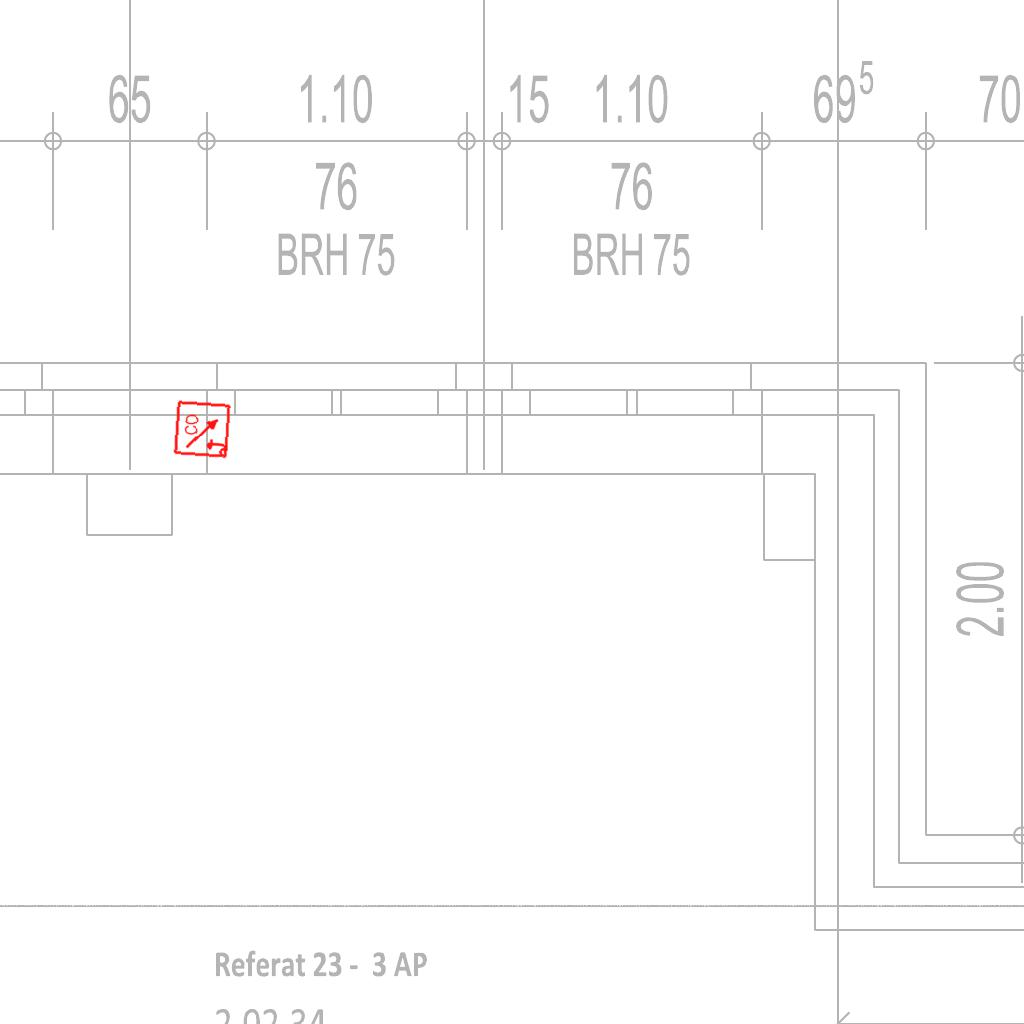ROA_Rauchmelder_optisch_mit_Signalgeber_(Sockelsirene): (173, 399, 233, 459)
